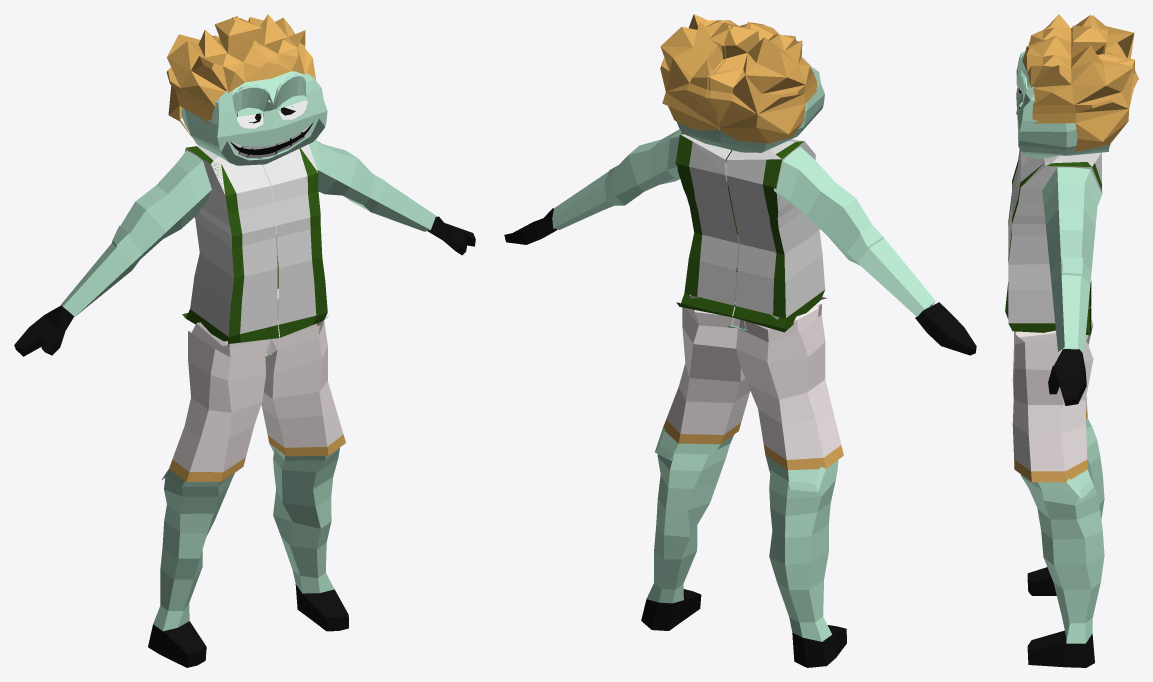
Rendered from Vintage Temoc.fbx.
3 renders of one model, left to right at view 1: azimuth 30°, elevation 25°; view 2: azimuth 150°, elevation 25°; view 3: azimuth 270°, elevation 25°, orthographic. The views are drawn at different scales.
Visible parts, largest first — view 1: Temoc; view 2: Temoc; view 3: Temoc.
Boxes of the visible parts, <box> form: Temoc: <box>14,14,475,667</box>; Temoc: <box>504,14,976,667</box>; Temoc: <box>1005,14,1138,667</box>.
Bounding box in the file's own units: 371 × 470 × 94.91.
